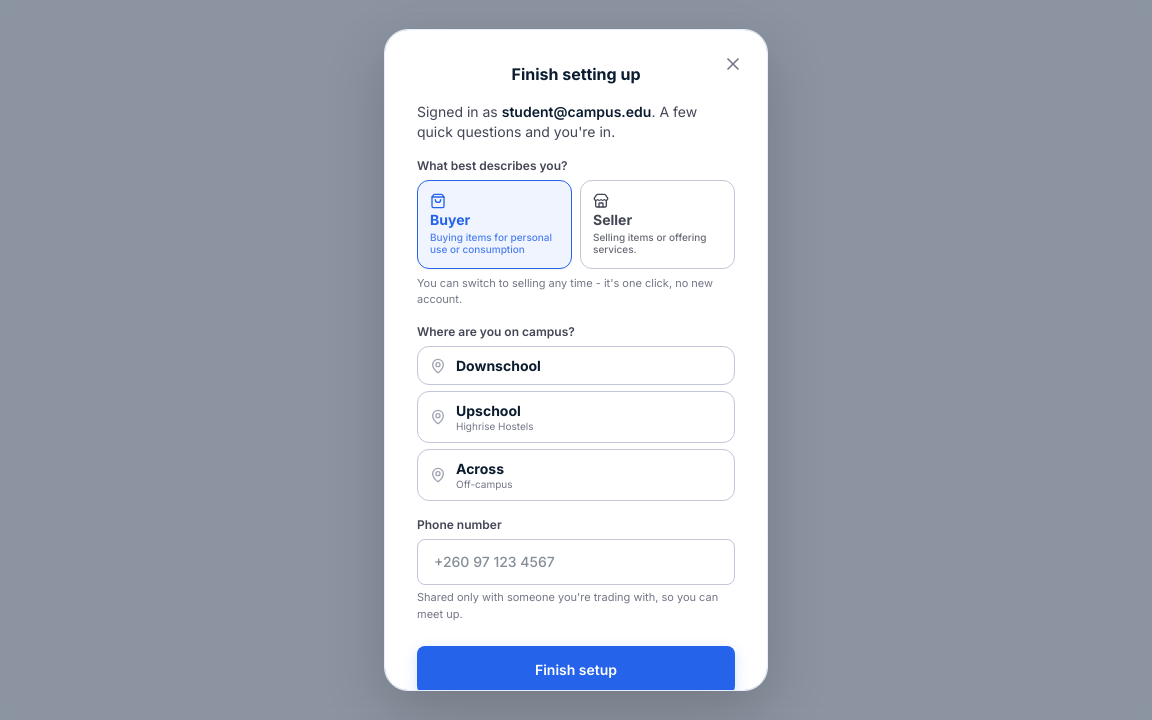
Test: registration requires a phone number › refuses to submit without one, and sends nothing
Expected: the text "few quick questions" is shown, [417, 103, 697, 140]
Click the button "Downschool" at {"x": 498, "y": 365}, box [417, 346, 735, 385]
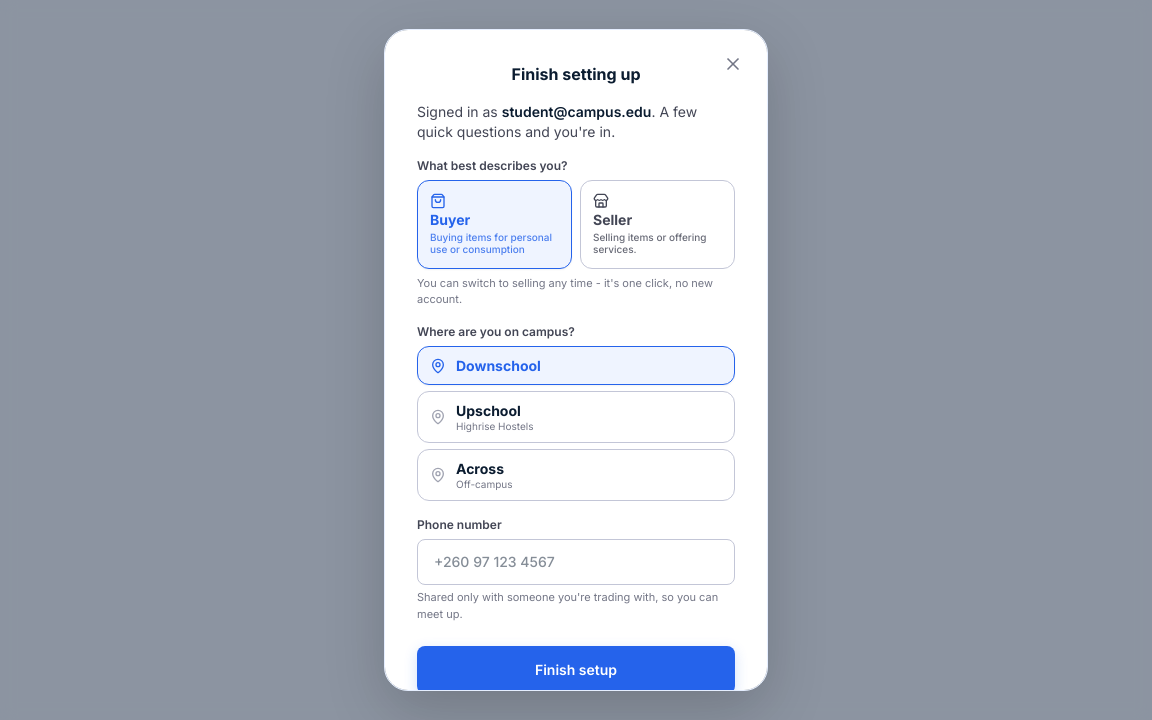
Click the button "Finish setup" at {"x": 576, "y": 670}, box [417, 646, 735, 694]
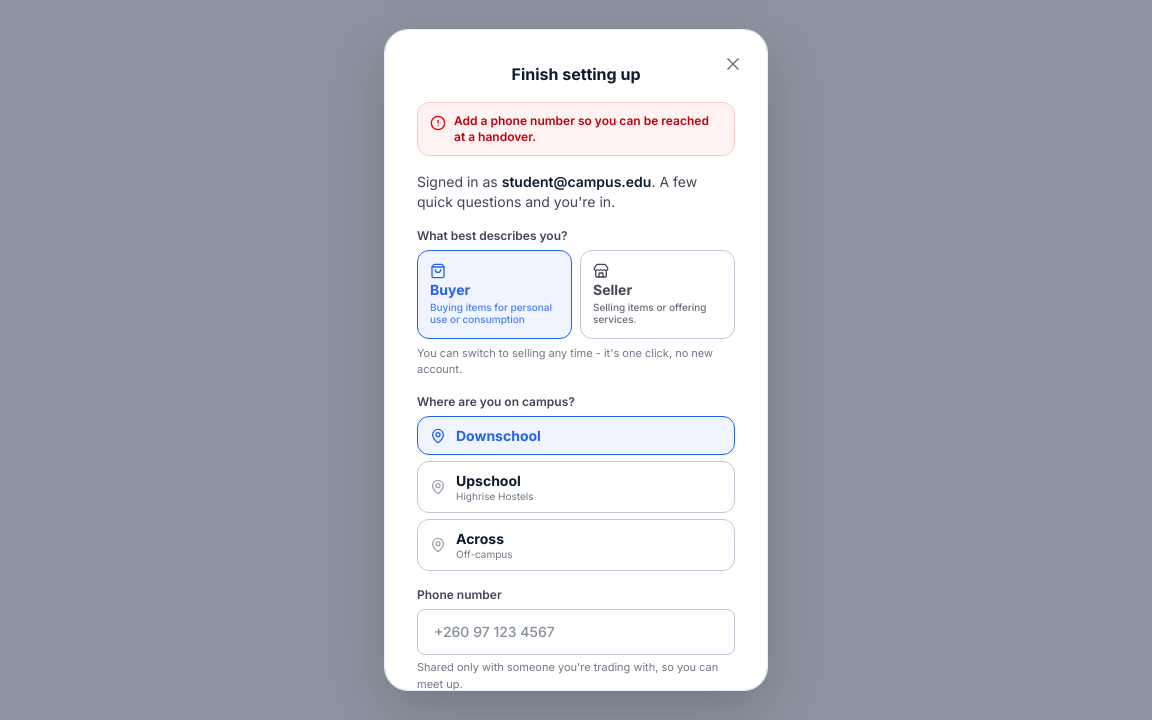
Expected: the text "Add a phone number so you can be reached at a handover." is shown, [454, 113, 722, 145]
